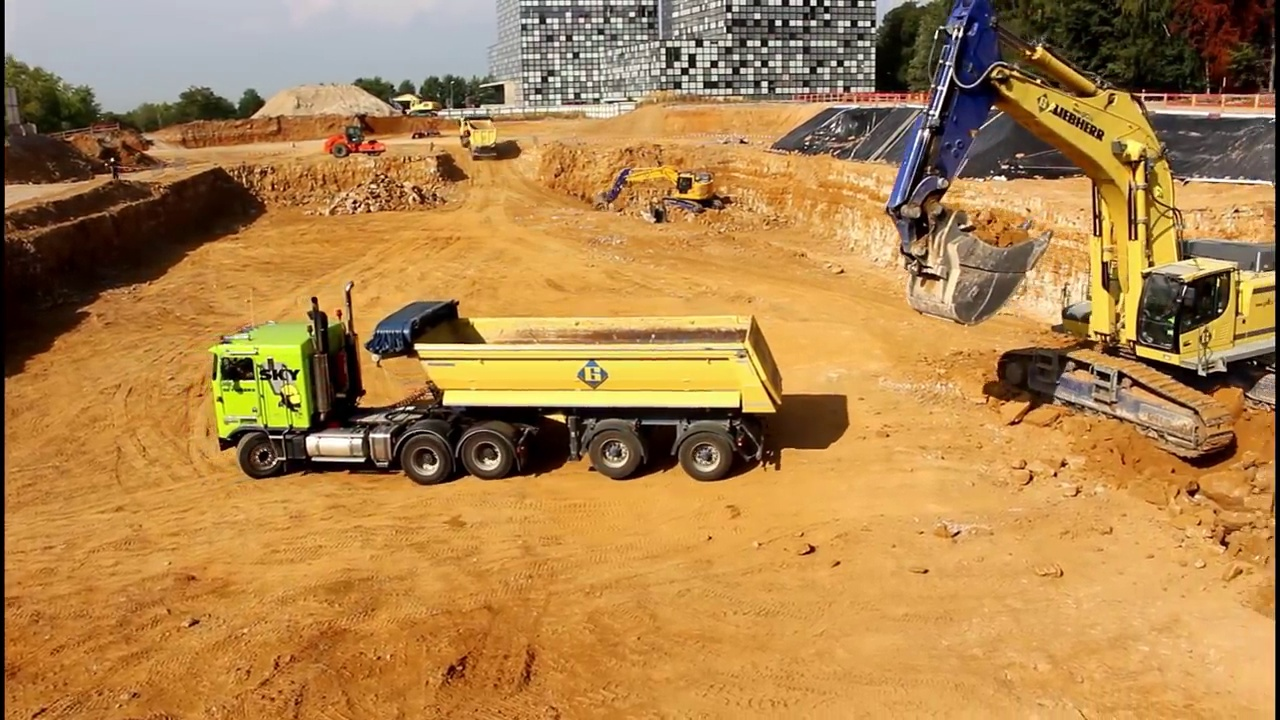compactor: (322, 120, 388, 165)
excavator: (883, 1, 1280, 474), (595, 159, 730, 231), (392, 88, 442, 120)
truck: (204, 276, 790, 488), (459, 107, 505, 161)
